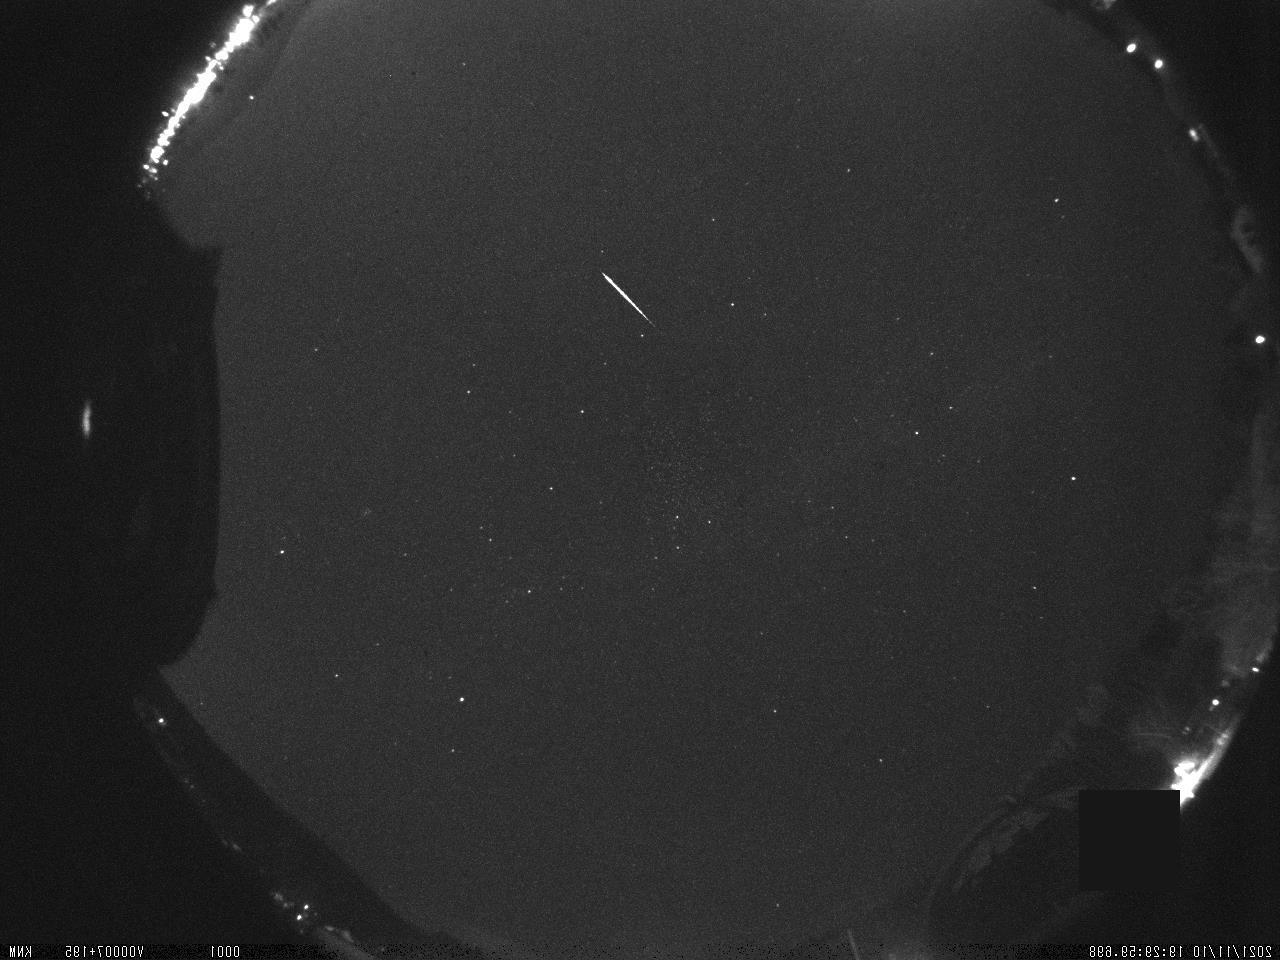meteor: (595, 264, 661, 332)
